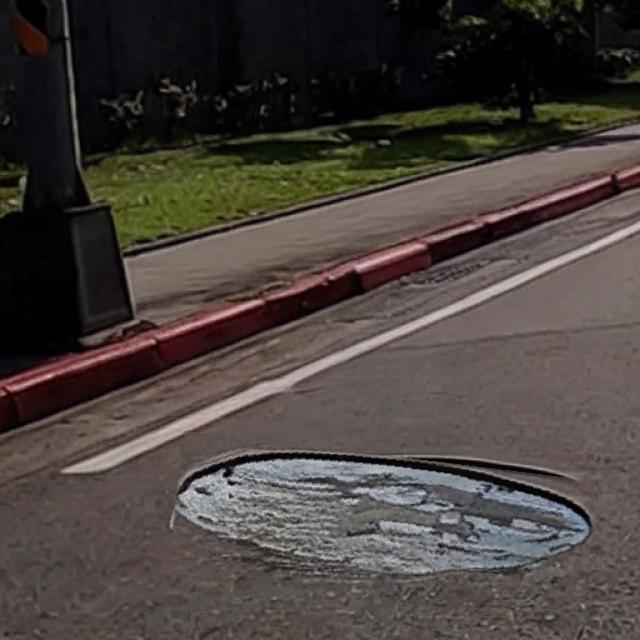puddle: (174, 443, 597, 588)
